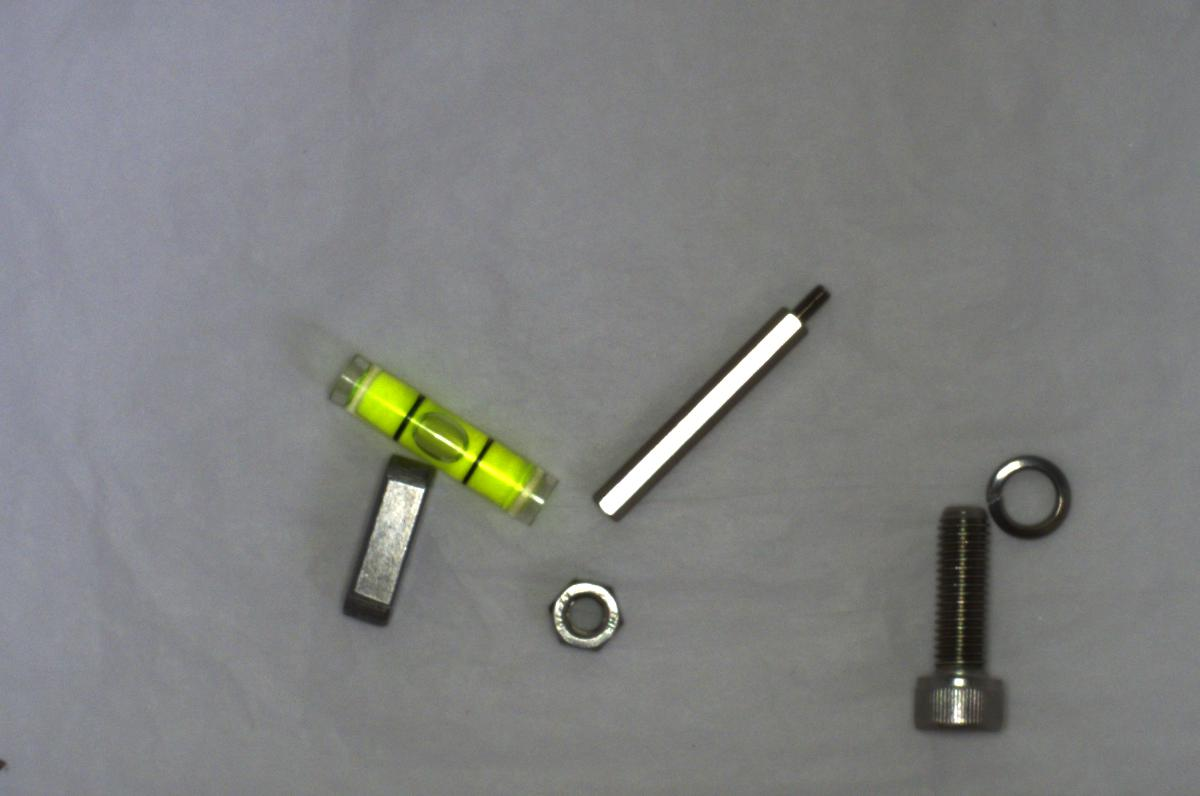Hexagon nut: (547, 566, 626, 654)
Hexagon screw: (897, 500, 1012, 740)
Hexagonal steel column: (588, 273, 834, 521)
Horizontal bubble: (315, 350, 559, 526)
Keybar: (339, 455, 433, 629)
Spring washer: (982, 448, 1077, 546)
